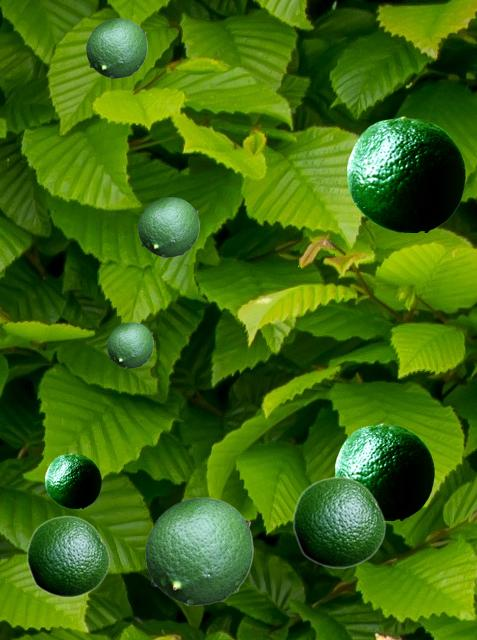calamansi: (347, 116, 464, 231), (145, 497, 252, 604), (335, 423, 433, 519), (292, 476, 385, 568), (26, 515, 109, 597), (138, 197, 198, 256), (86, 18, 146, 77), (45, 453, 100, 507), (107, 322, 152, 367)
